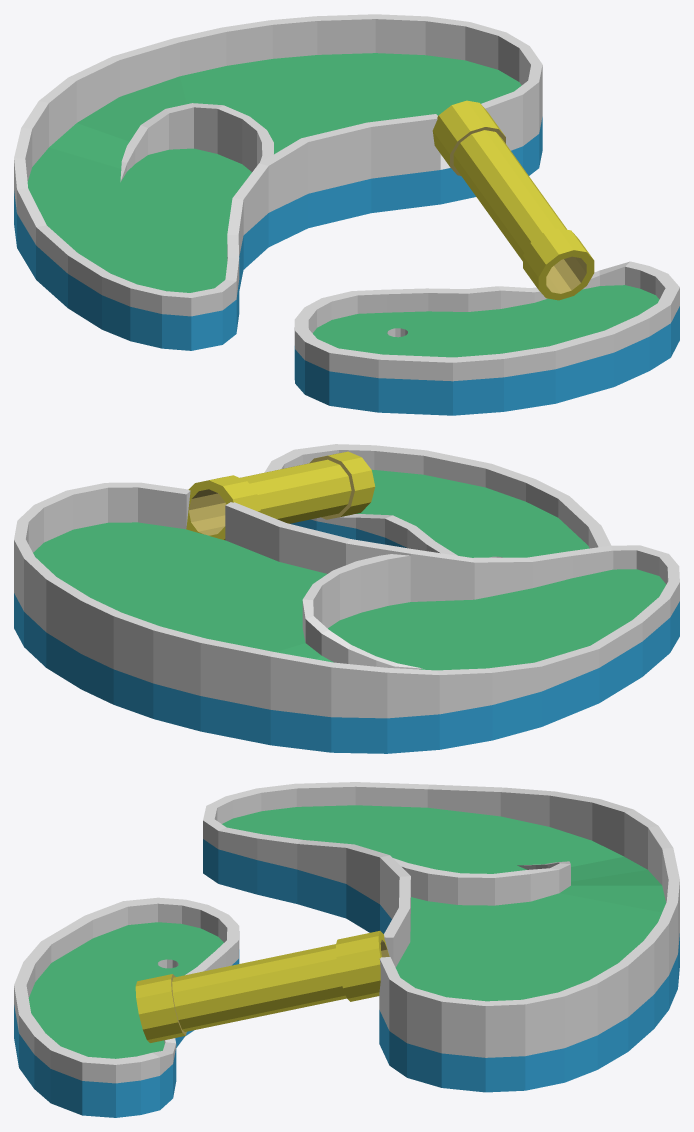
The model's file is hole3.fbx.
3 renders of one model, top to bottom at view 1: azimuth 30°, elevation 25°; view 2: azimuth 150°, elevation 25°; view 3: azimuth 270°, elevation 25°, orthographic. The views are drawn at different scales.
Parts seen in each view (by area): view 1: Cube, Cylinder; view 2: Cube, Cylinder; view 3: Cube, Cylinder.
Part boxes in pixels (x1=…): Cube: x1=14, y1=14, x2=679, y2=415; Cylinder: x1=432, y1=100, x2=594, y2=300; Cube: x1=14, y1=444, x2=679, y2=753; Cylinder: x1=186, y1=451, x2=375, y2=539; Cube: x1=14, y1=782, x2=679, y2=1117; Cylinder: x1=135, y1=931, x2=389, y2=1042.
Bounding box in the file's own units: 848 × 227 × 927.
